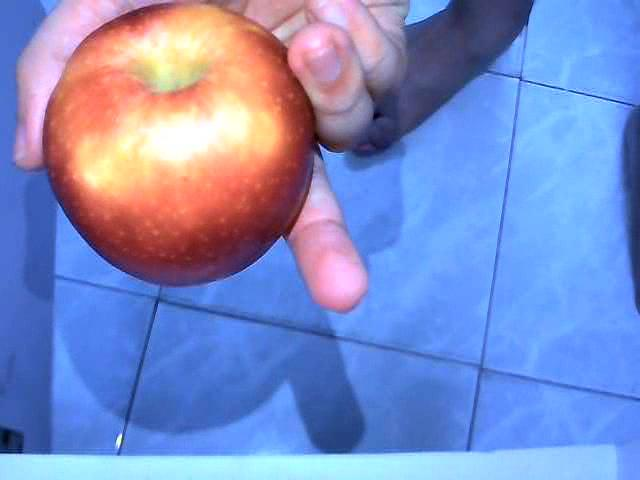apple: (42, 5, 319, 286)
